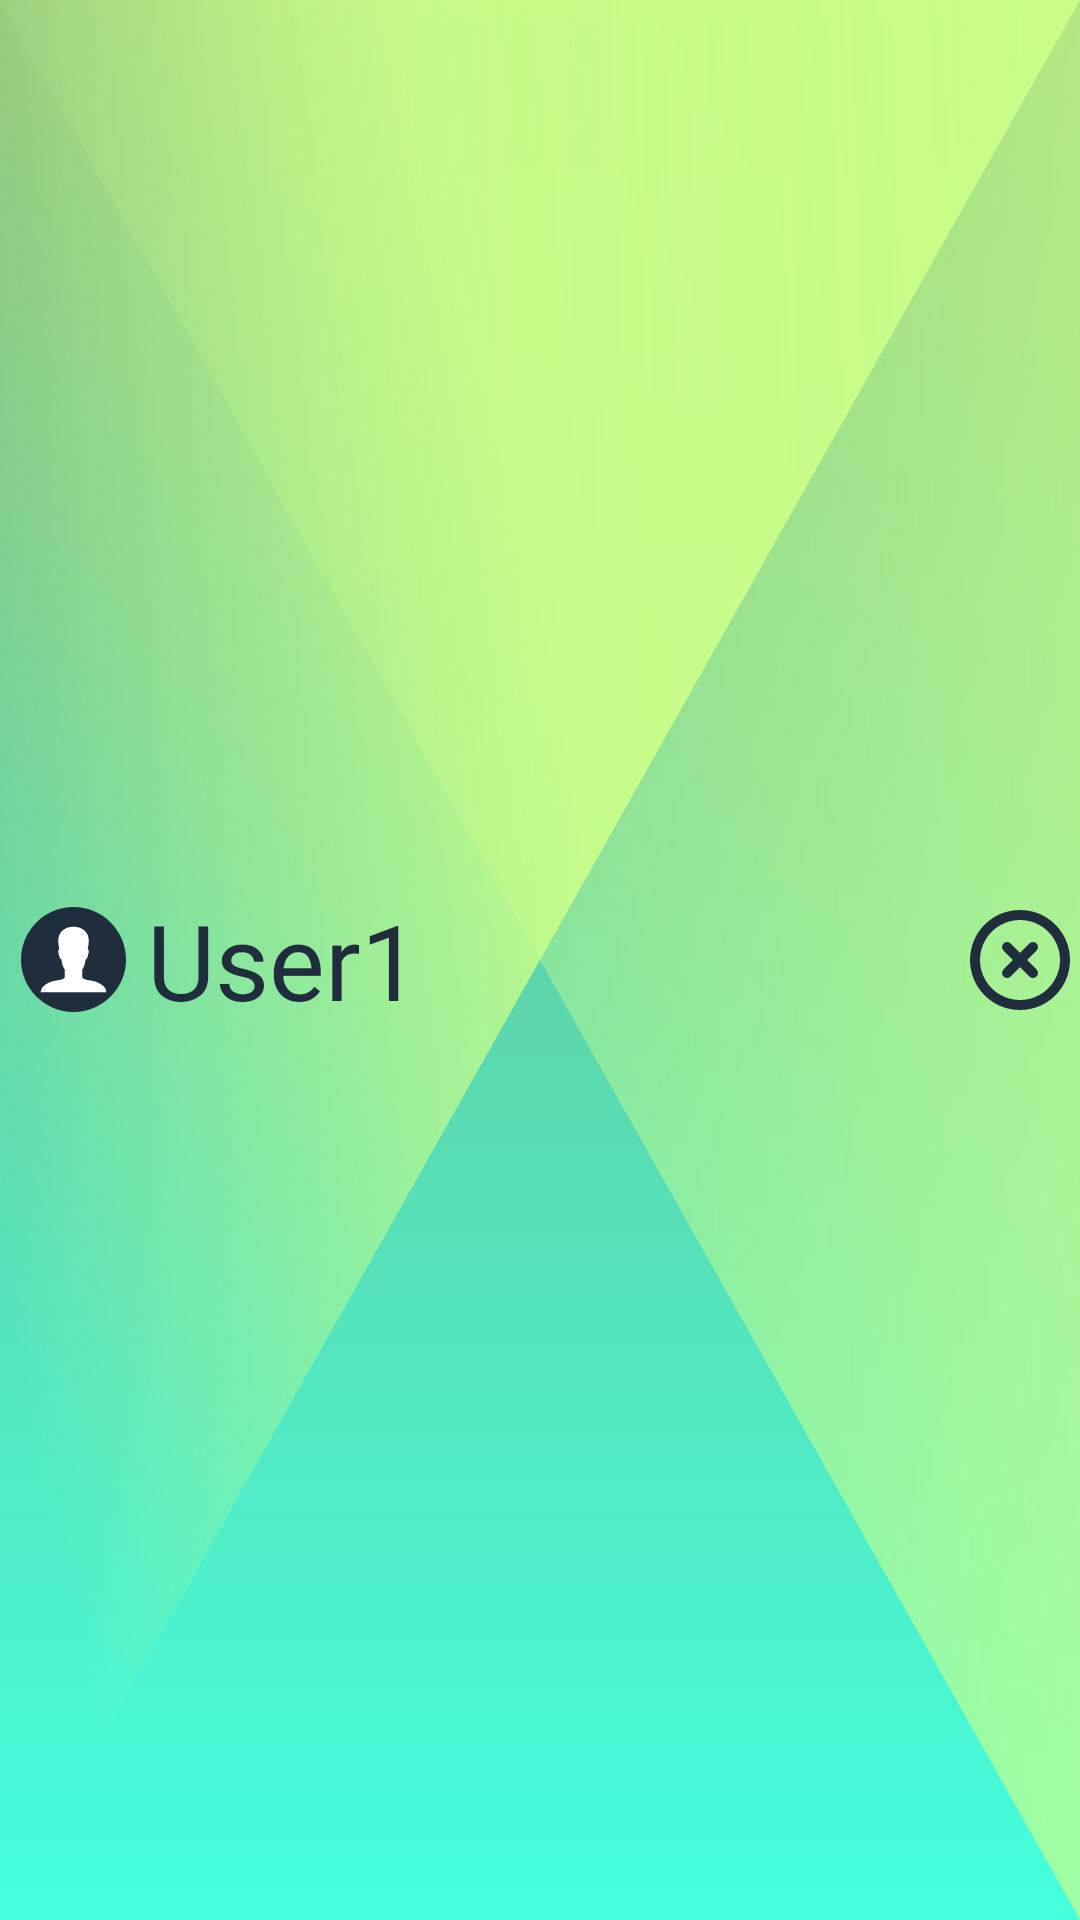

Point at icon controls on the screen. Image size 1080 x 1920, points as point (x, y).
Profile picture: point (73, 959)
remove user: point (1020, 960)
